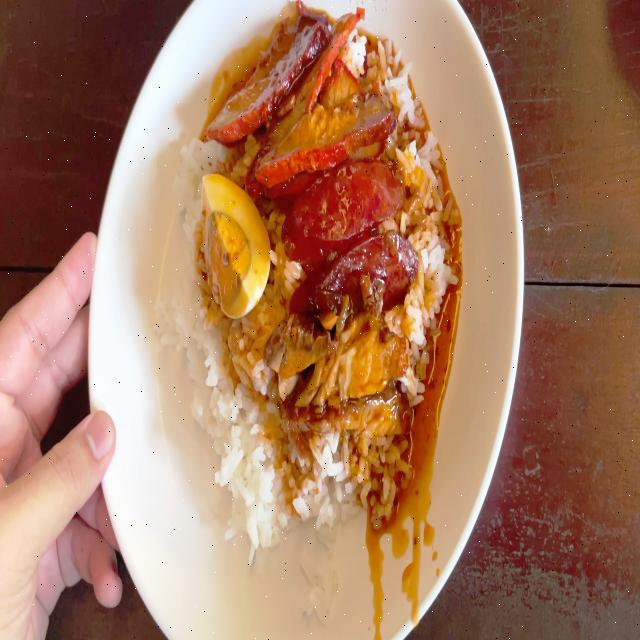boiled_egg: (202, 179, 265, 309)
chainese_sausage: (291, 167, 410, 313)
crispy_pork: (277, 324, 412, 434)
red_pork: (233, 17, 384, 176)
red_pork_and_crispy_pork: (190, 29, 442, 516)
rice: (198, 316, 275, 518)
